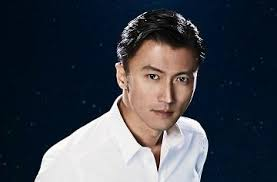eye: (174, 74, 193, 85), (144, 72, 163, 82)
mouth: (148, 108, 178, 119)
nose: (156, 93, 179, 106)
